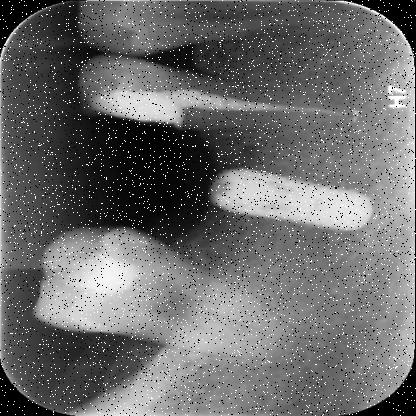ITI: (213, 158, 382, 236)
